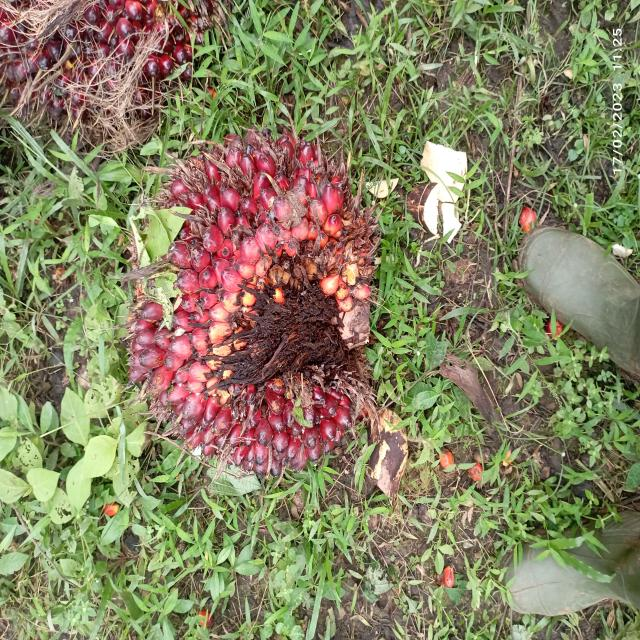fraksi 3: (104, 122, 388, 478)
